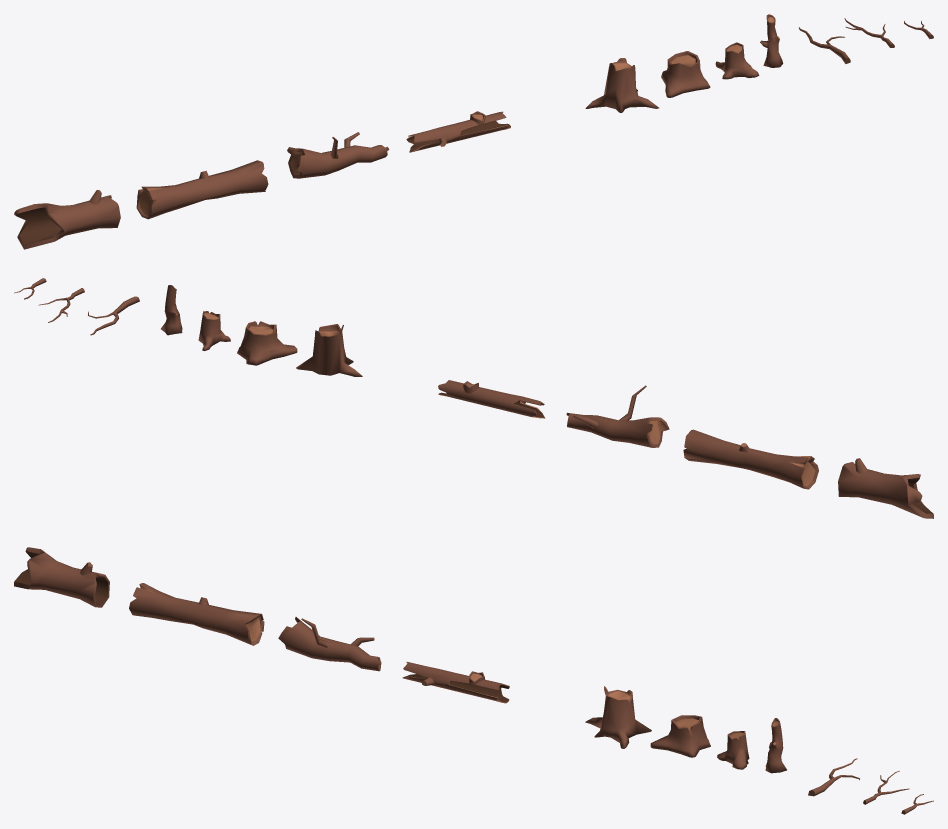
Rendered from Branch_Smooth.fbx.
The picture shows the model from 3 angles, top to bottom: view 1: azimuth 30°, elevation 25°; view 2: azimuth 150°, elevation 25°; view 3: azimuth 330°, elevation 25°; orthographic projection.
Parts seen in each view (by area): view 1: Branch_Smooth_Type 3_03, Branch_Smooth_Type 3_04, Branch_Smooth_Type 3_02, Branch_Smooth_Type 3_01, Branch_Smooth_Type 2_04, Branch_Smooth_Type 2_03, Branch_Smooth_Type 2_02, Branch_Smooth_Type 2_01; view 2: Branch_Smooth_Type 3_03, Branch_Smooth_Type 3_04, Branch_Smooth_Type 3_02, Branch_Smooth_Type 3_01, Branch_Smooth_Type 2_04, Branch_Smooth_Type 2_03, Branch_Smooth_Type 2_02, Branch_Smooth_Type 2_01; view 3: Branch_Smooth_Type 3_03, Branch_Smooth_Type 3_04, Branch_Smooth_Type 3_02, Branch_Smooth_Type 3_01, Branch_Smooth_Type 2_04, Branch_Smooth_Type 2_03, Branch_Smooth_Type 2_02, Branch_Smooth_Type 2_01.
Boxes of the visible parts, x1,y1,x2,y2 form: Branch_Smooth_Type 3_03: [136, 160, 268, 219]; Branch_Smooth_Type 3_04: [14, 190, 120, 249]; Branch_Smooth_Type 3_02: [287, 132, 389, 178]; Branch_Smooth_Type 3_01: [406, 111, 510, 152]; Branch_Smooth_Type 2_04: [585, 58, 658, 112]; Branch_Smooth_Type 2_03: [661, 51, 710, 97]; Branch_Smooth_Type 2_02: [715, 42, 759, 79]; Branch_Smooth_Type 2_01: [760, 14, 783, 67]; Branch_Smooth_Type 3_03: [683, 429, 818, 489]; Branch_Smooth_Type 3_04: [838, 458, 933, 518]; Branch_Smooth_Type 3_02: [566, 385, 669, 447]; Branch_Smooth_Type 3_01: [438, 380, 545, 418]; Branch_Smooth_Type 2_04: [296, 324, 362, 376]; Branch_Smooth_Type 2_03: [237, 321, 297, 365]; Branch_Smooth_Type 2_02: [198, 311, 230, 350]; Branch_Smooth_Type 2_01: [161, 285, 182, 335]; Branch_Smooth_Type 3_03: [129, 583, 264, 645]; Branch_Smooth_Type 3_04: [14, 547, 109, 607]; Branch_Smooth_Type 3_02: [278, 617, 381, 671]; Branch_Smooth_Type 3_01: [402, 662, 509, 703]; Branch_Smooth_Type 2_04: [585, 686, 651, 748]; Branch_Smooth_Type 2_03: [650, 715, 710, 757]; Branch_Smooth_Type 2_02: [717, 731, 749, 769]; Branch_Smooth_Type 2_01: [765, 718, 786, 773].
Size of the model in its own units: 2944 by 157 by 270.
